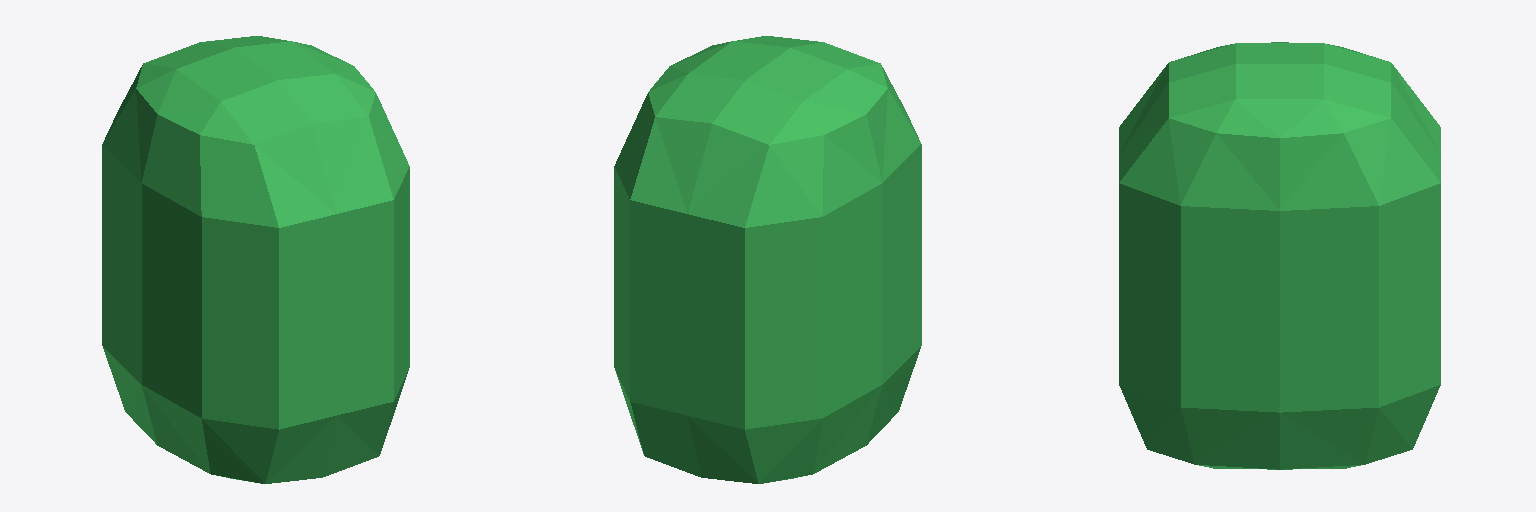
3 renders of one model, left to right at view 1: azimuth 30°, elevation 25°; view 2: azimuth 150°, elevation 25°; view 3: azimuth 270°, elevation 25°, orthographic.
Visible parts, largest first — view 1: 体_Cube; view 2: 体_Cube; view 3: 体_Cube.
Part boxes in pixels (x1,y1,x2,y2): 体_Cube: (102,36,409,483); 体_Cube: (614,36,921,483); 体_Cube: (1119,42,1440,469).
Bounding box in the file's own units: 2 × 3.21 × 2.44.
Materials: 1 (1 with a texture image).